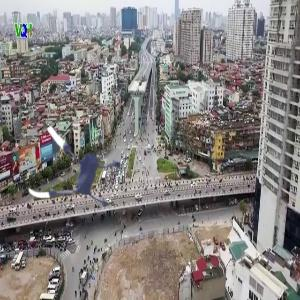drone: (23, 114, 135, 226)
